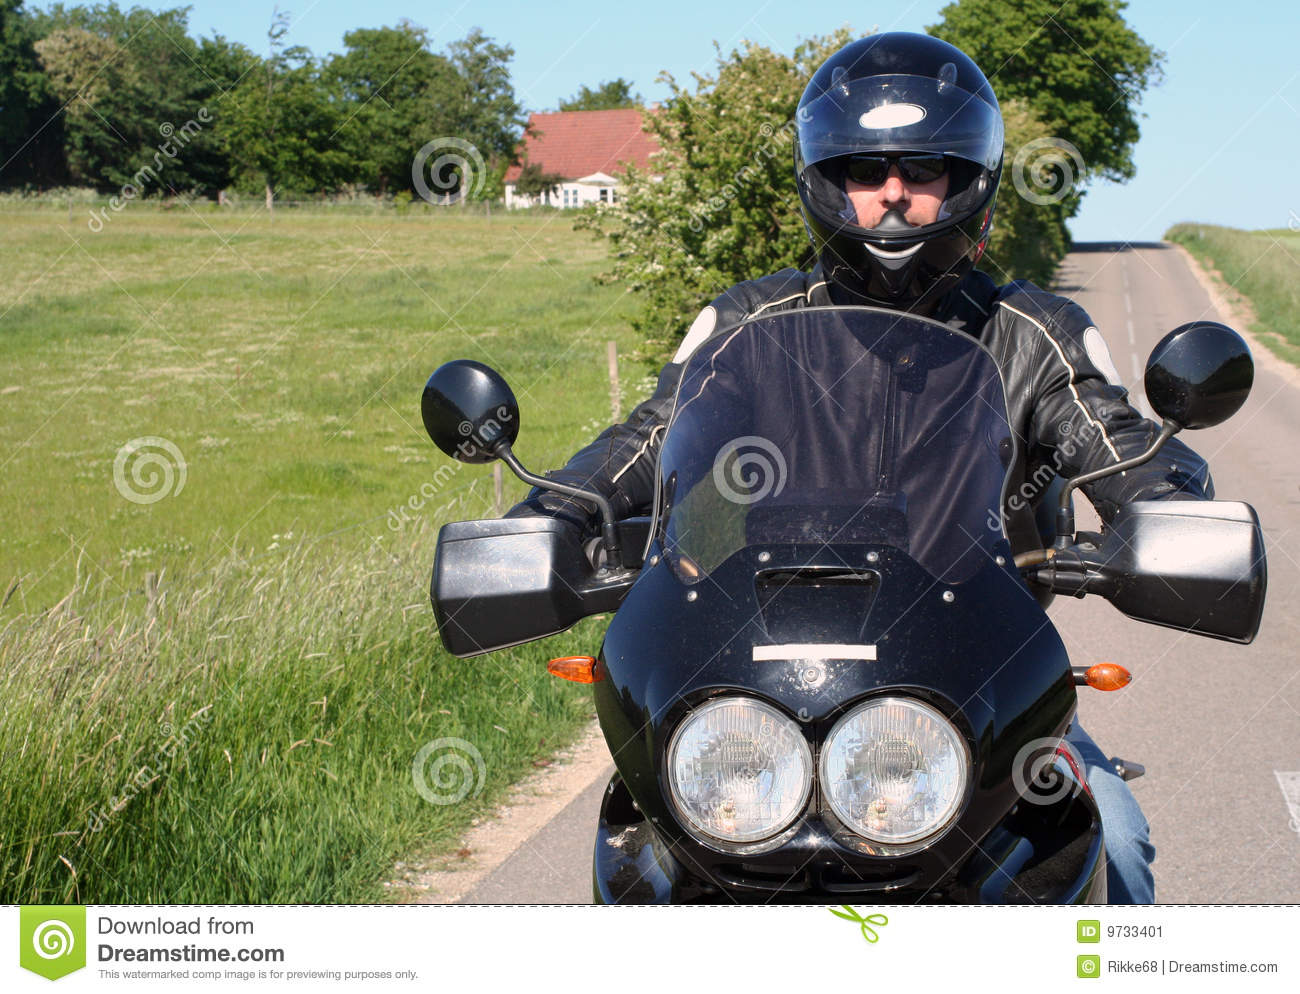helmet: (782, 37, 1029, 270)
